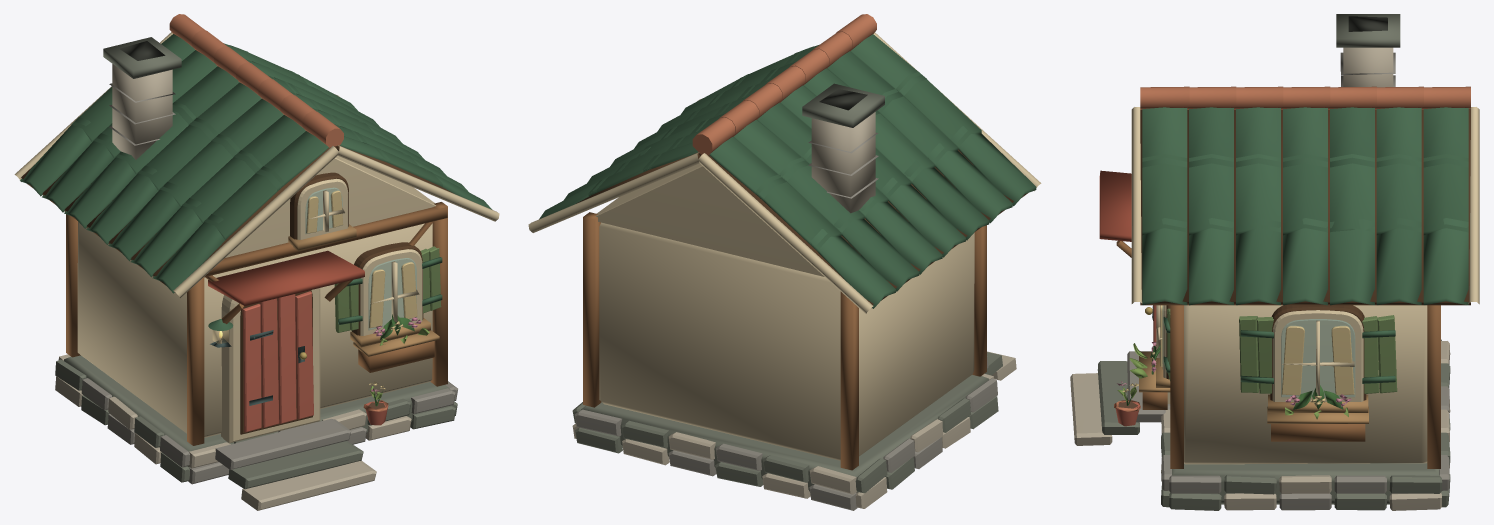
Rendered from casita_pueblo_lod.glb.
The picture shows the model from 3 angles, left to right: view 1: azimuth 30°, elevation 25°; view 2: azimuth 150°, elevation 25°; view 3: azimuth 270°, elevation 25°; orthographic projection. The views are drawn at different scales.
Parts seen in each view (by area): view 1: casita_pueblo; view 2: casita_pueblo; view 3: casita_pueblo.
Boxes of the visible parts, left/top/right/bottom form: casita_pueblo: left=14, top=14, right=499, bottom=510; casita_pueblo: left=528, top=14, right=1041, bottom=510; casita_pueblo: left=1070, top=14, right=1479, bottom=510.
Bounding box in the file's own units: 3.2 × 3.29 × 3.27.
